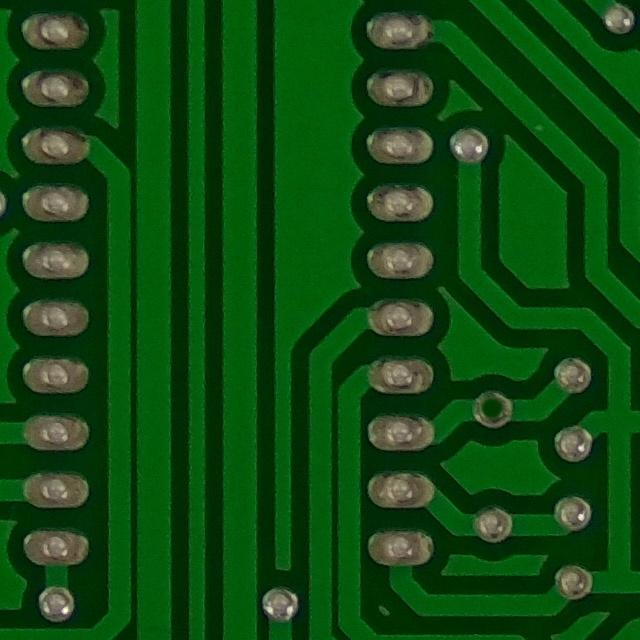missing_hole: (459, 385, 523, 435)
